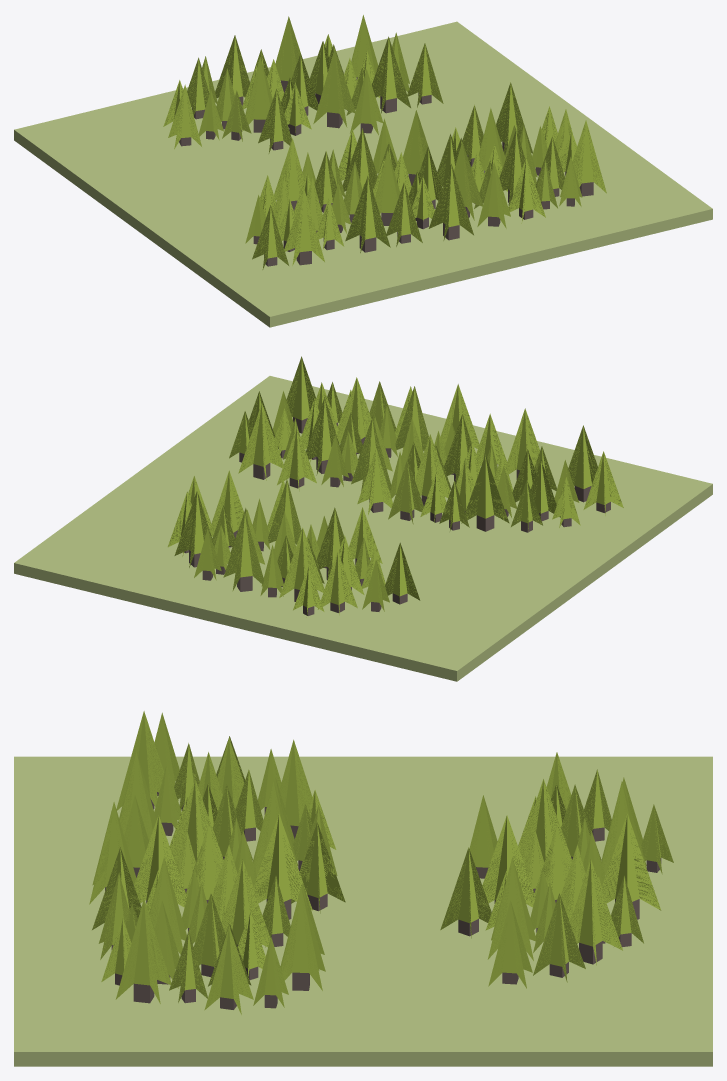
File: Forest II.fbx
3 renders of one model, top to bottom at view 1: azimuth 30°, elevation 25°; view 2: azimuth 150°, elevation 25°; view 3: azimuth 270°, elevation 25°, orthographic. The views are drawn at different scales.
Visible parts, largest first — view 1: Forest II, Forest I.001; view 2: Forest II, Forest I.001; view 3: Forest II, Forest I.001.
Boxes of the visible parts, box(x1,y1,x2,y2) form: Forest II: box(14, 21, 712, 327); Forest I.001: box(163, 15, 606, 269); Forest II: box(14, 376, 712, 681); Forest I.001: box(168, 356, 623, 617); Forest II: box(14, 756, 712, 1066); Forest I.001: box(89, 711, 673, 1014).
Bounding box in the file's own units: 1600 × 305 × 1600.
